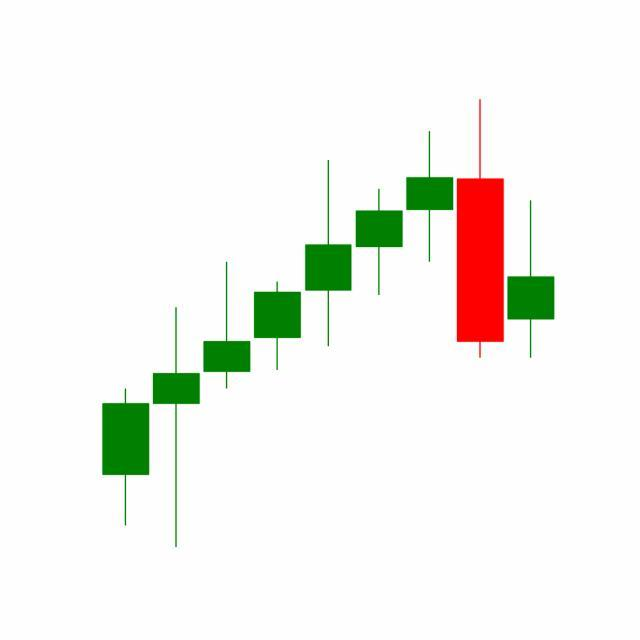Hikkake Pattern: (252, 99, 506, 375)
